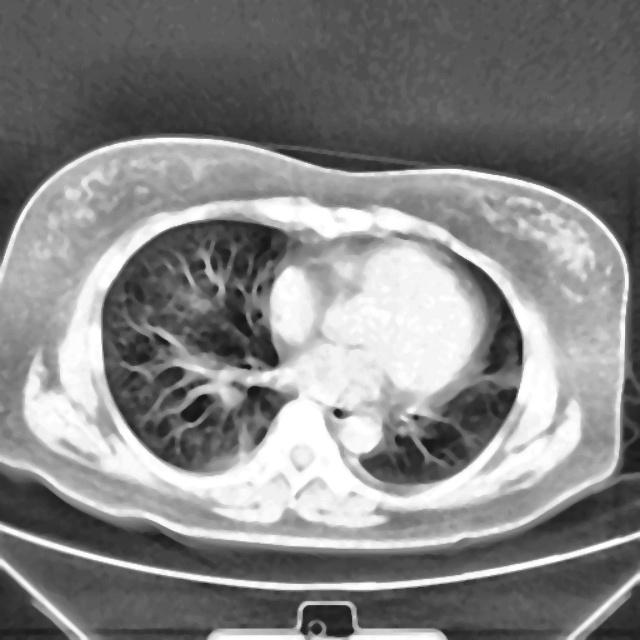covid: (1, 134, 630, 558)
